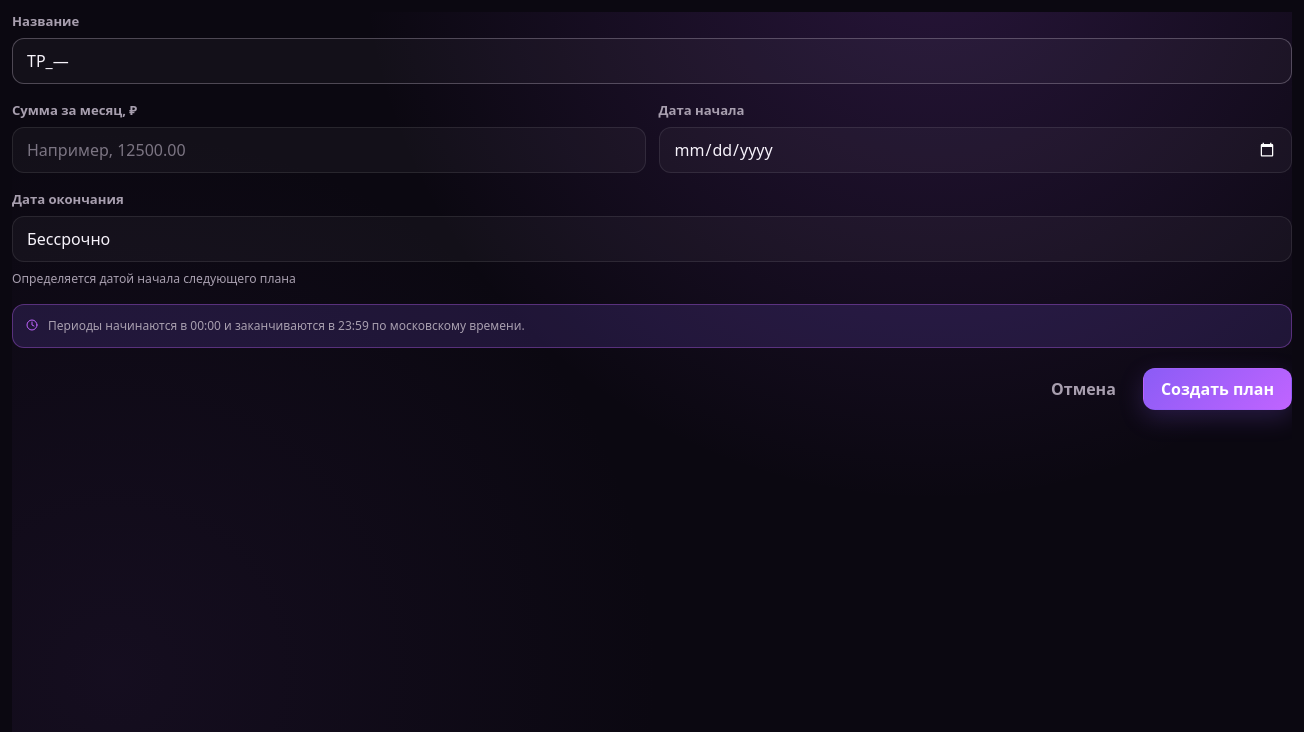
Test: TariffPlanForm › generates a disabled name and previews the next boundary
Type "2099-08-15" into the date field labelled "Дата начала".
click(975, 150); type("2099-08-15")  # box x1=658 y1=127 x2=1292 y2=173
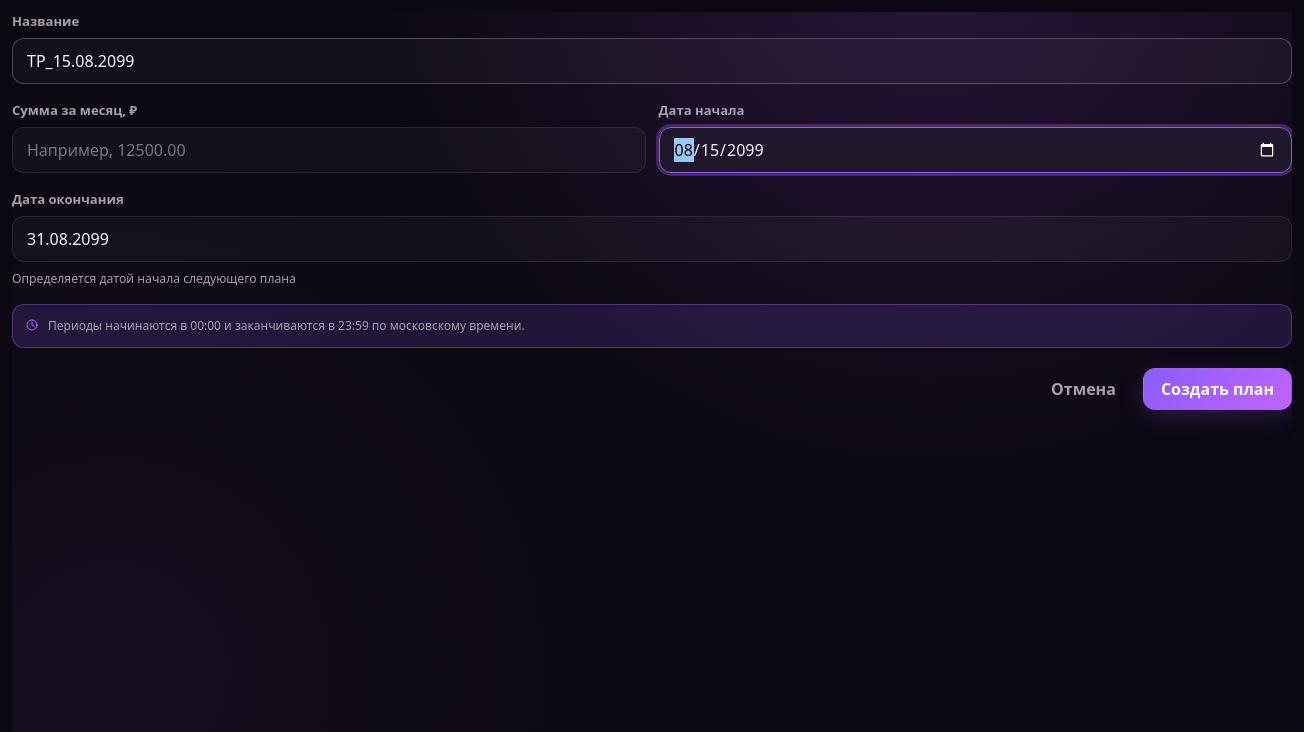
Expected: the field labelled "Название" is disabled, x1=12 y1=38 x2=1292 y2=84
Expected: the field labelled "Название" holds "TP_15.08.2099", x1=12 y1=38 x2=1292 y2=84
Expected: the field labelled "Дата окончания" holds "31.08.2099", x1=12 y1=216 x2=1292 y2=262
